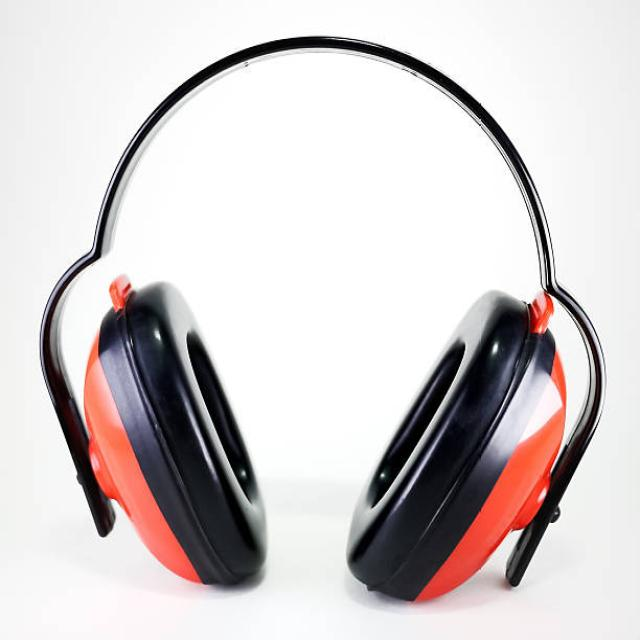Ear-protection: (22, 23, 602, 604)
